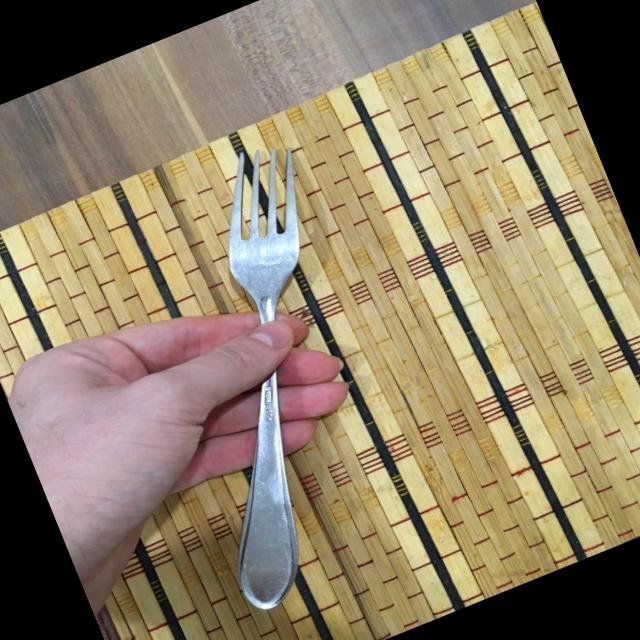fork: (89, 134, 447, 616)
